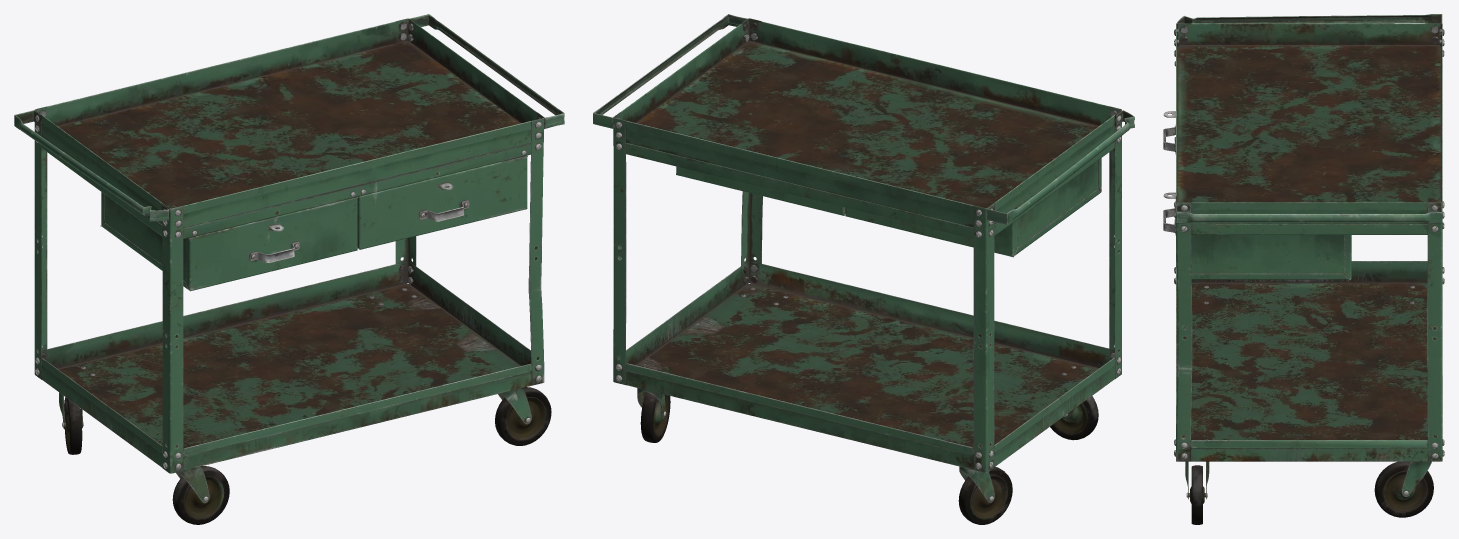
File: tool_cart.glb
3 renders of one model, left to right at view 1: azimuth 30°, elevation 25°; view 2: azimuth 150°, elevation 25°; view 3: azimuth 270°, elevation 25°, orthographic. The views are drawn at different scales.
Parts seen in each view (by area): view 1: tool_cart; view 2: tool_cart; view 3: tool_cart.
Boxes of the visible parts, x1,y1,x2,y2 form: tool_cart: (14,14,564,524); tool_cart: (593,14,1134,524); tool_cart: (1163,14,1444,524).
Bounding box in the file's own units: 1.27 × 0.9646 × 0.7537.
Materials: 1 (1 with a texture image).
